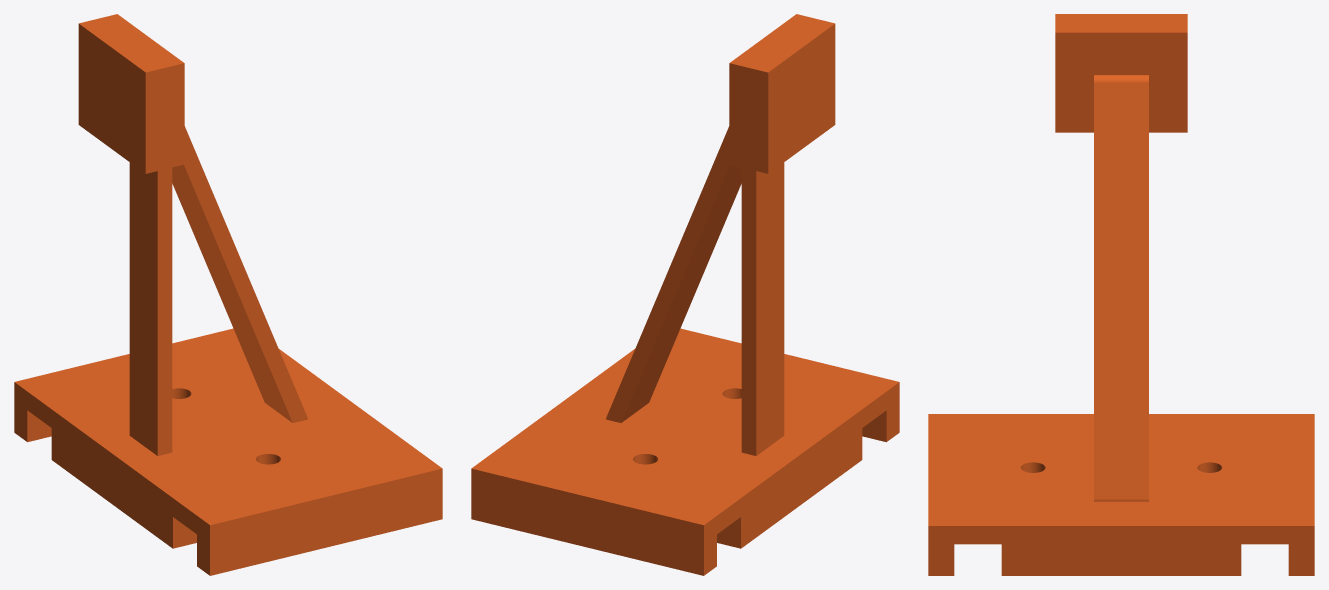
The model's file is 05-right.glb.
3 renders of one model, left to right at view 1: azimuth 30°, elevation 25°; view 2: azimuth 150°, elevation 25°; view 3: azimuth 270°, elevation 25°, orthographic.
Visible parts, largest first — view 1: right_solid; view 2: right_solid; view 3: right_solid.
Part boxes in pixels (box(x1,y1,x2,y2)): right_solid: box(14, 14, 442, 575); right_solid: box(471, 14, 899, 575); right_solid: box(928, 14, 1314, 575).
Bounding box in the file's own units: 48 × 90 × 70.
